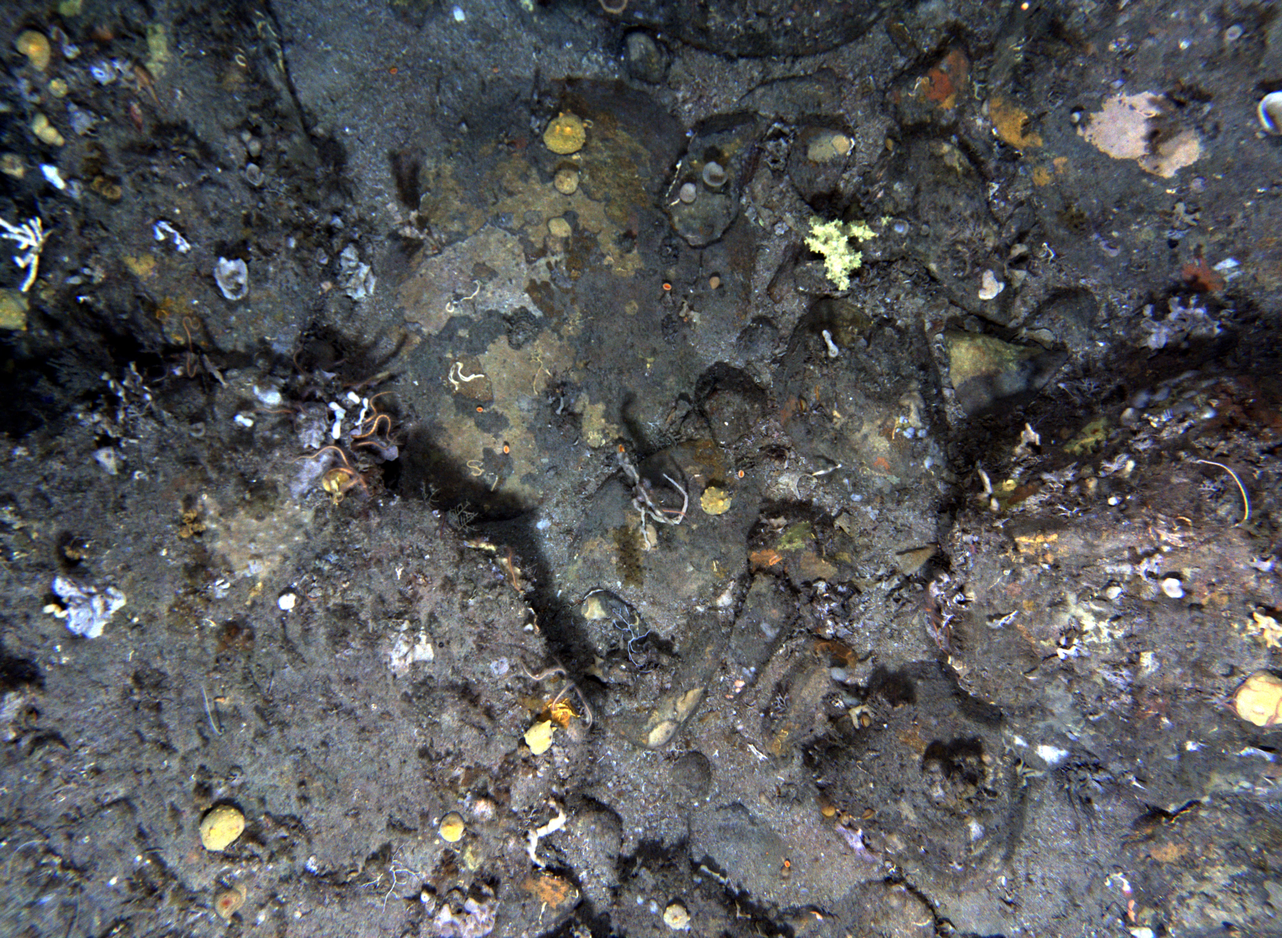Brachionichthyidae: (130, 64, 169, 115)
